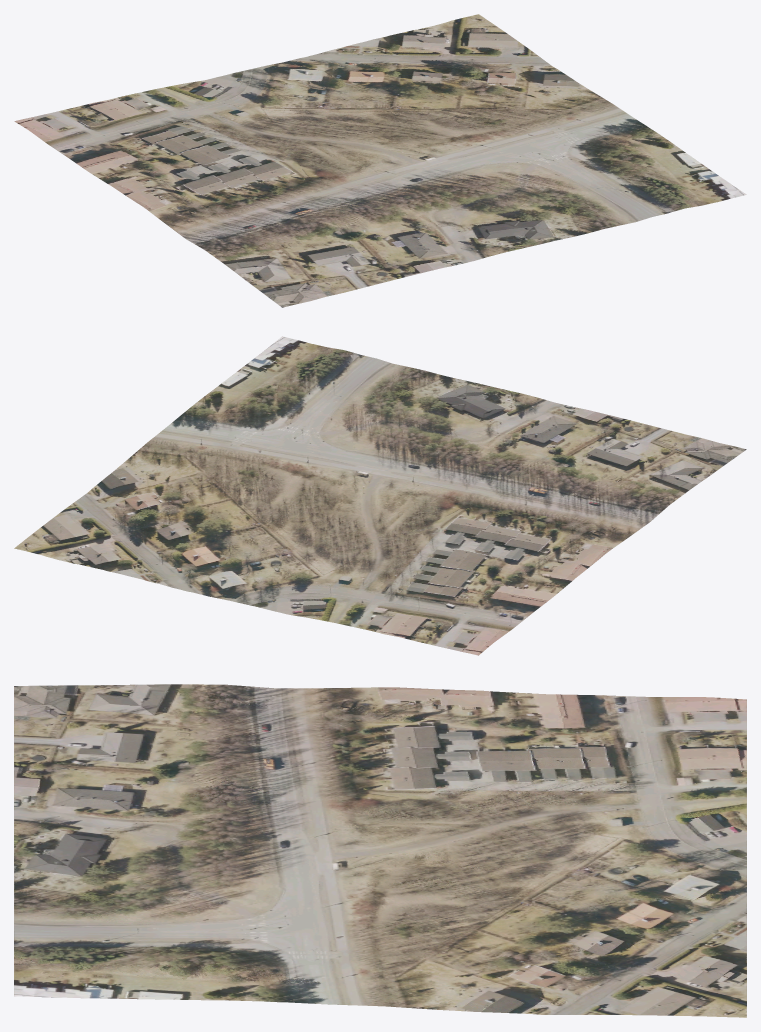
The model's file is CM_Terrain_24490254_6818156.fbx.
3 views of the same model, one above another, from view 1: azimuth 30°, elevation 25°; view 2: azimuth 150°, elevation 25°; view 3: azimuth 270°, elevation 25° (orthographic). The views are drawn at different scales.
Parts seen in each view (by area): view 1: CM_Terrain_24490254_6818156_LOD0; view 2: CM_Terrain_24490254_6818156_LOD0; view 3: CM_Terrain_24490254_6818156_LOD0.
Part boxes in pixels (x1,y1,x2,y2): CM_Terrain_24490254_6818156_LOD0: (14,14,746,307); CM_Terrain_24490254_6818156_LOD0: (14,336,746,655); CM_Terrain_24490254_6818156_LOD0: (14,684,746,1017).
Size of what is drawn, in the model's own units: 205 by 8.47 by 205.
